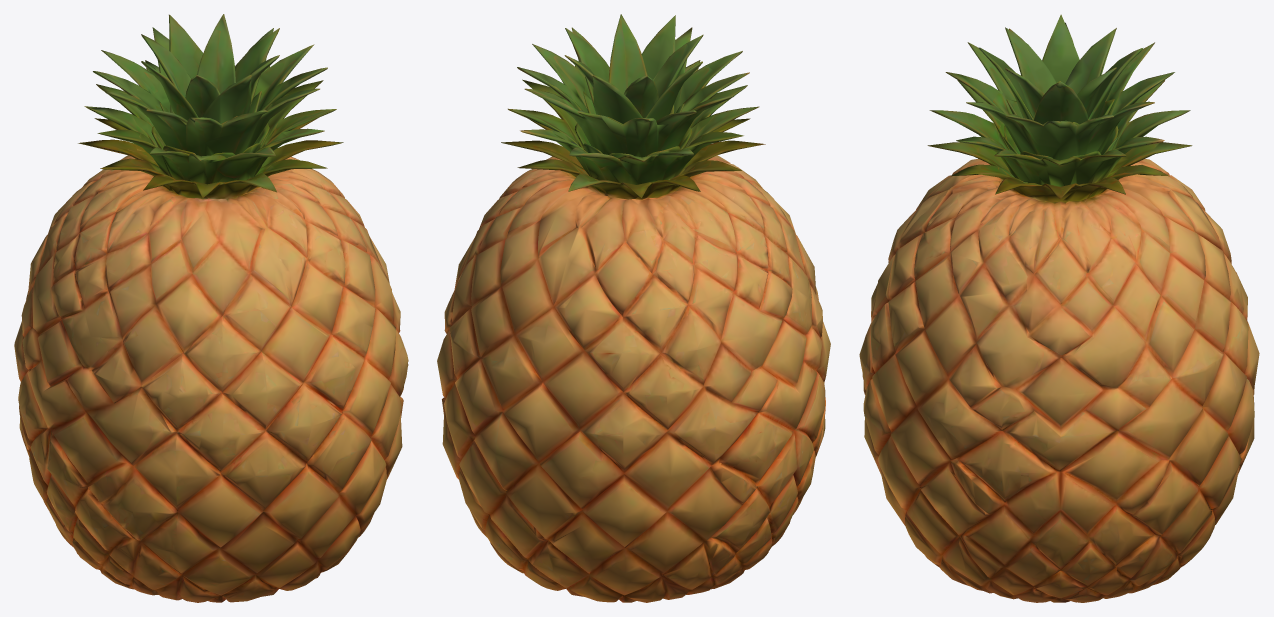
The model's file is pineapple.glb.
The picture shows the model from 3 angles, left to right: view 1: azimuth 30°, elevation 25°; view 2: azimuth 150°, elevation 25°; view 3: azimuth 270°, elevation 25°; orthographic projection.
Visible parts, largest first — view 1: material; view 2: material; view 3: material.
Part boxes in pixels (left/top/right/bottom): material: left=14, top=14, right=408, bottom=602; material: left=437, top=14, right=830, bottom=602; material: left=859, top=14, right=1259, bottom=602.
Bounding box in the file's own units: 0.7707 × 1.12 × 0.7942.
1 material, 1 textured.
